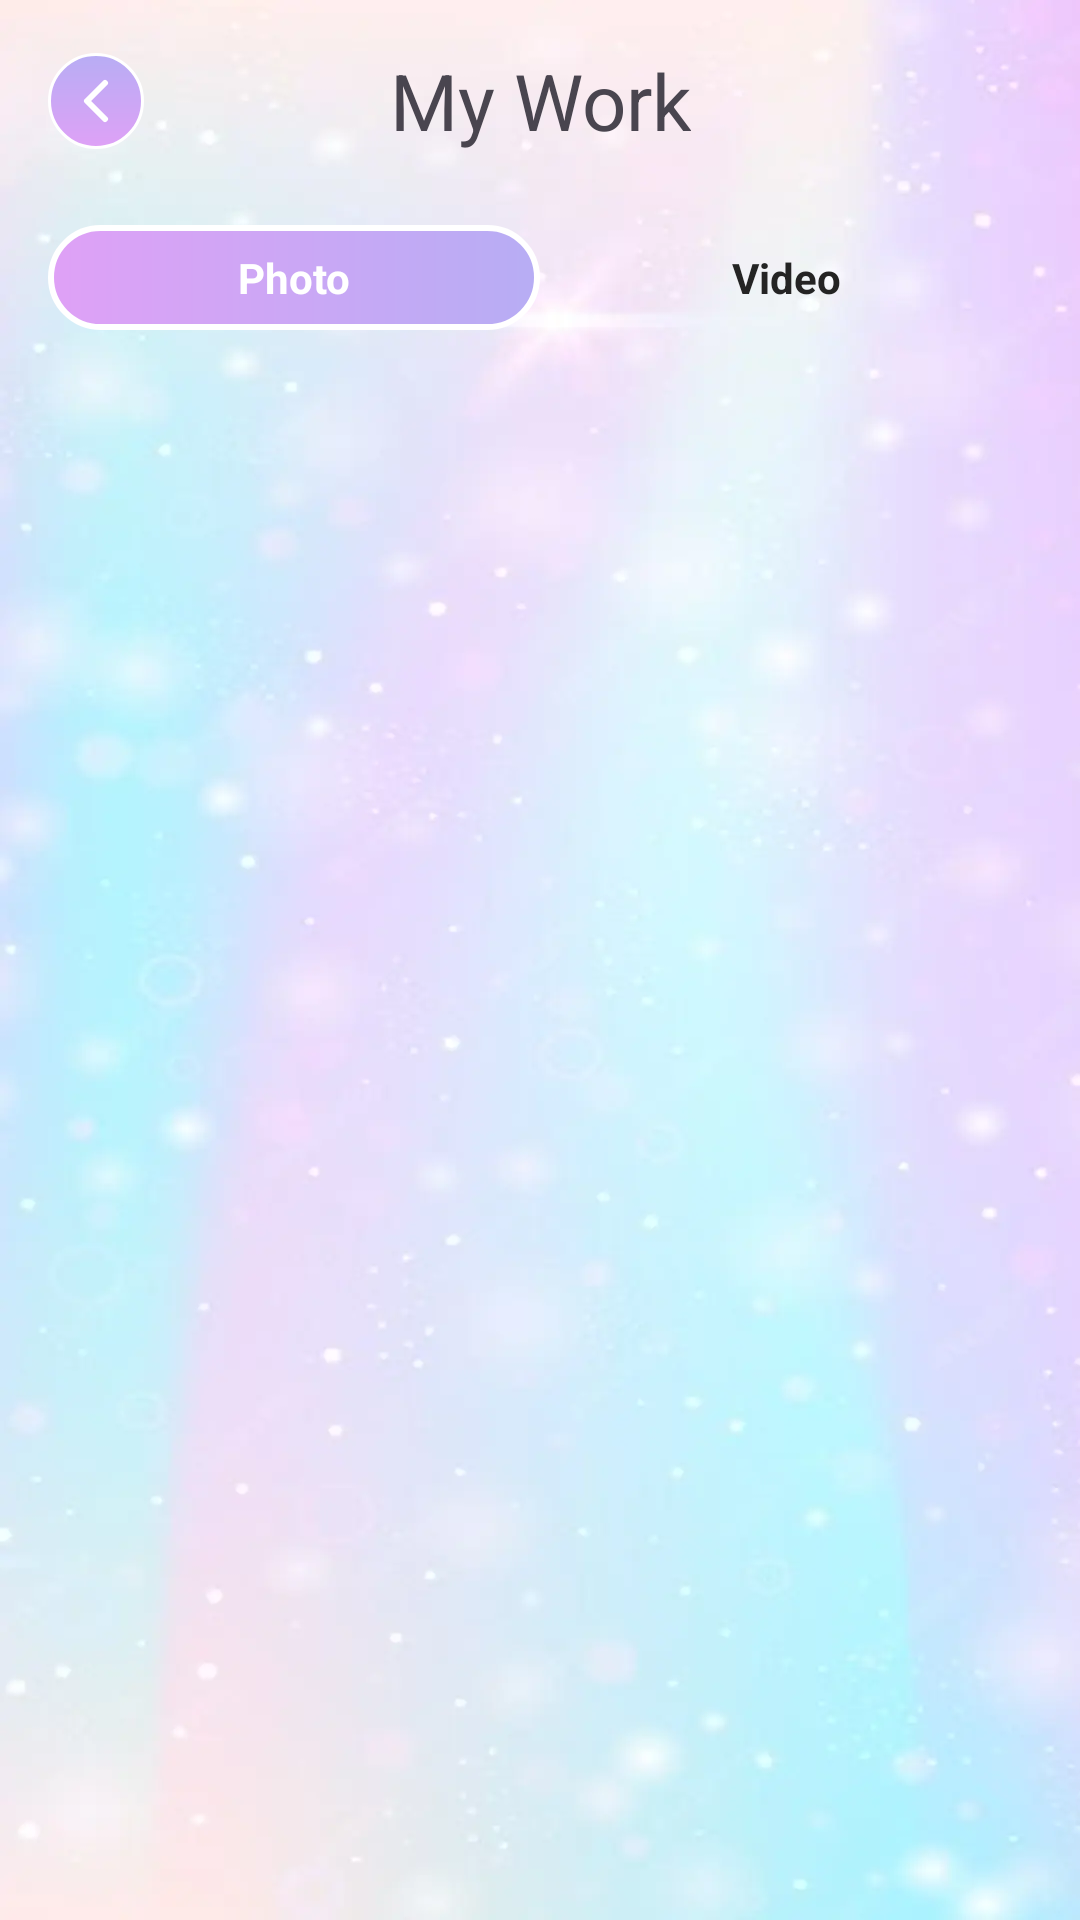

Screen size 1080px×1920px. Icon name, then its center in pixels as (x=x, y=y):
arrow back: (x=96, y=101)
